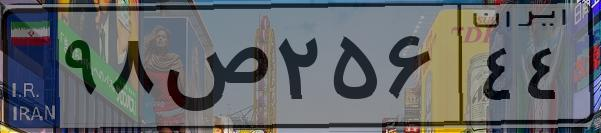2: (270, 28, 330, 110)
4: (475, 38, 525, 113), (525, 38, 570, 115)
5: (330, 28, 385, 110)
6: (385, 28, 445, 110)
8: (110, 28, 158, 98)
9: (57, 26, 110, 100)
ص: (158, 20, 270, 120)
